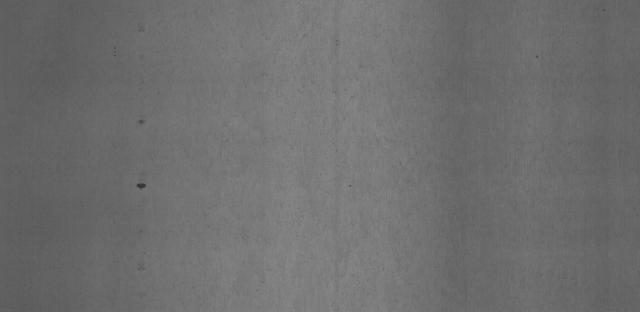oil_spot: (130, 173, 157, 198), (134, 251, 150, 273), (132, 108, 150, 125), (134, 15, 148, 32)
